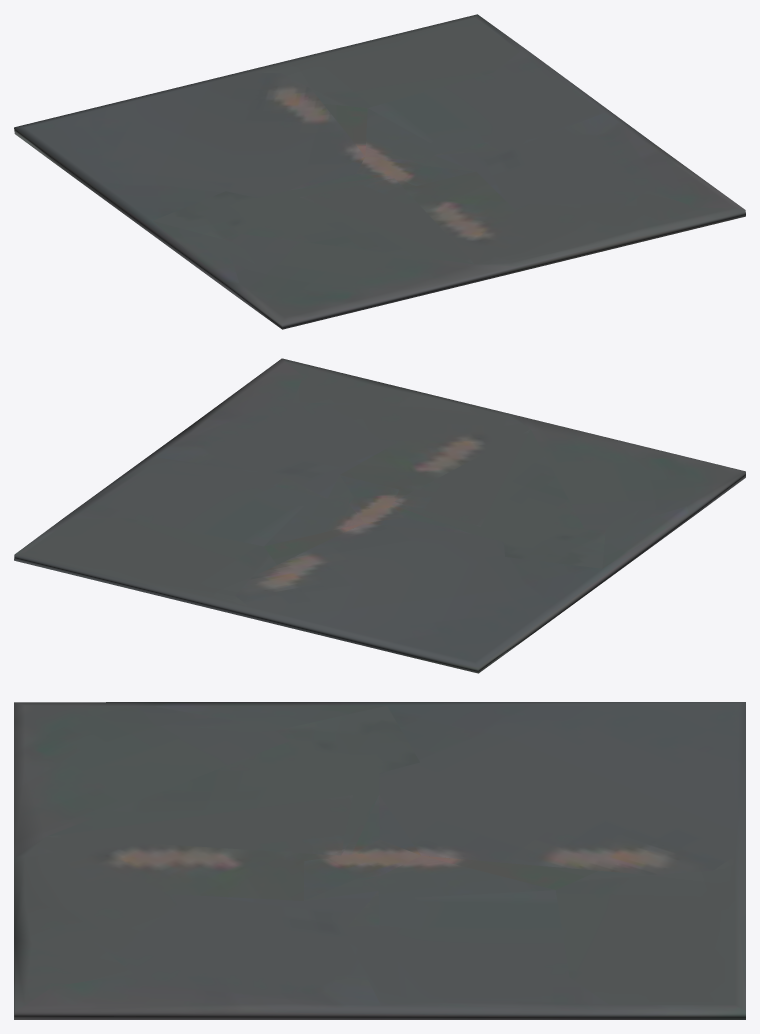
Rendered from street_plat.glb.
3 views of the same model, one above another, from view 1: azimuth 30°, elevation 25°; view 2: azimuth 150°, elevation 25°; view 3: azimuth 270°, elevation 25° (orthographic). The views are drawn at different scales.
Visible parts, largest first — view 1: tripo_node_0388cb30; view 2: tripo_node_0388cb30; view 3: tripo_node_0388cb30.
Part boxes in pixels (x1,y1,x2,y2): tripo_node_0388cb30: (14,14,745,329); tripo_node_0388cb30: (14,358,745,673); tripo_node_0388cb30: (14,702,745,1019).
Size of the model in its own units: 4 by 0.3324 by 4.
1 material, 1 textured.
